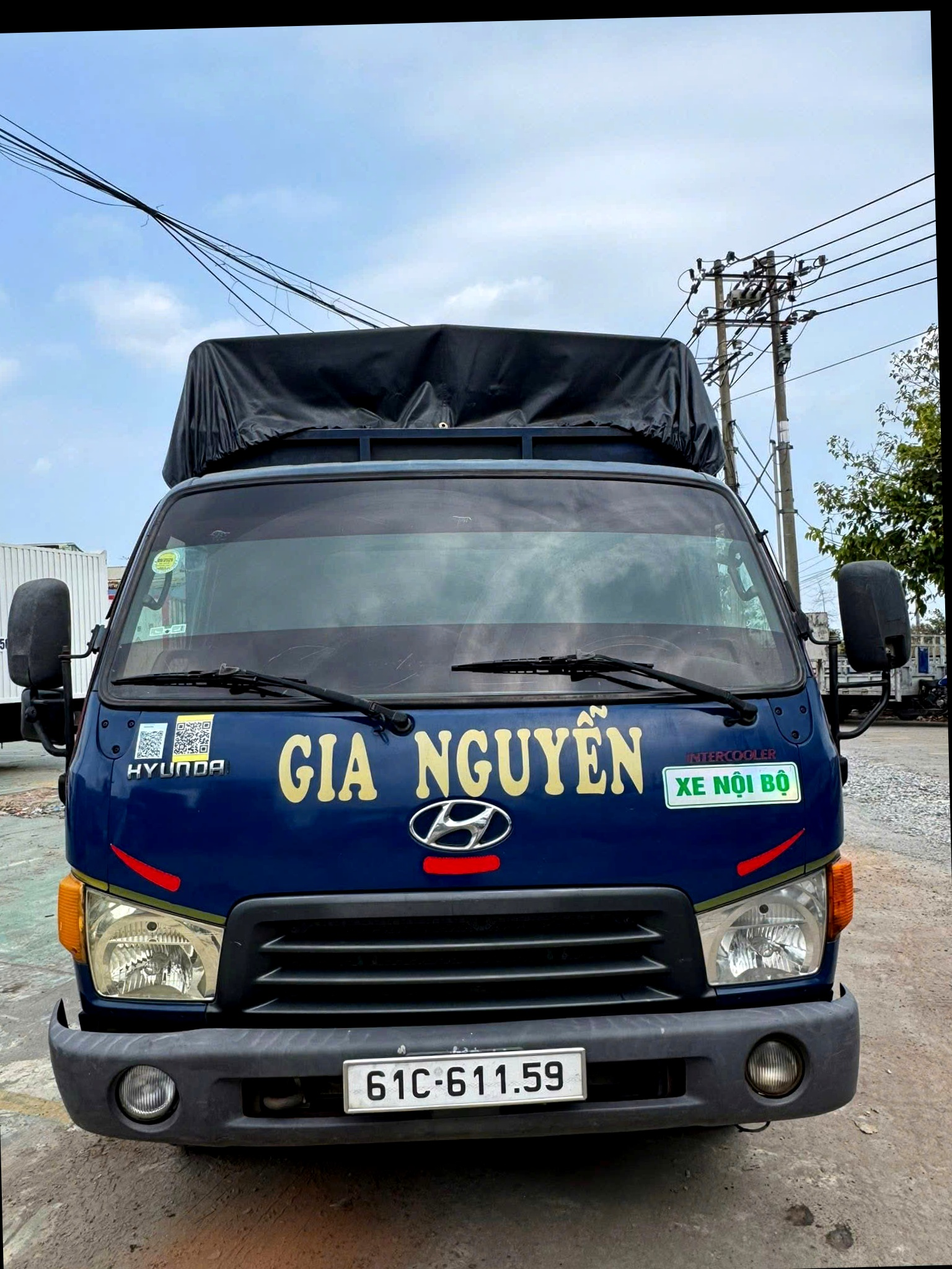Bien-so: (337, 1045, 596, 1121)
